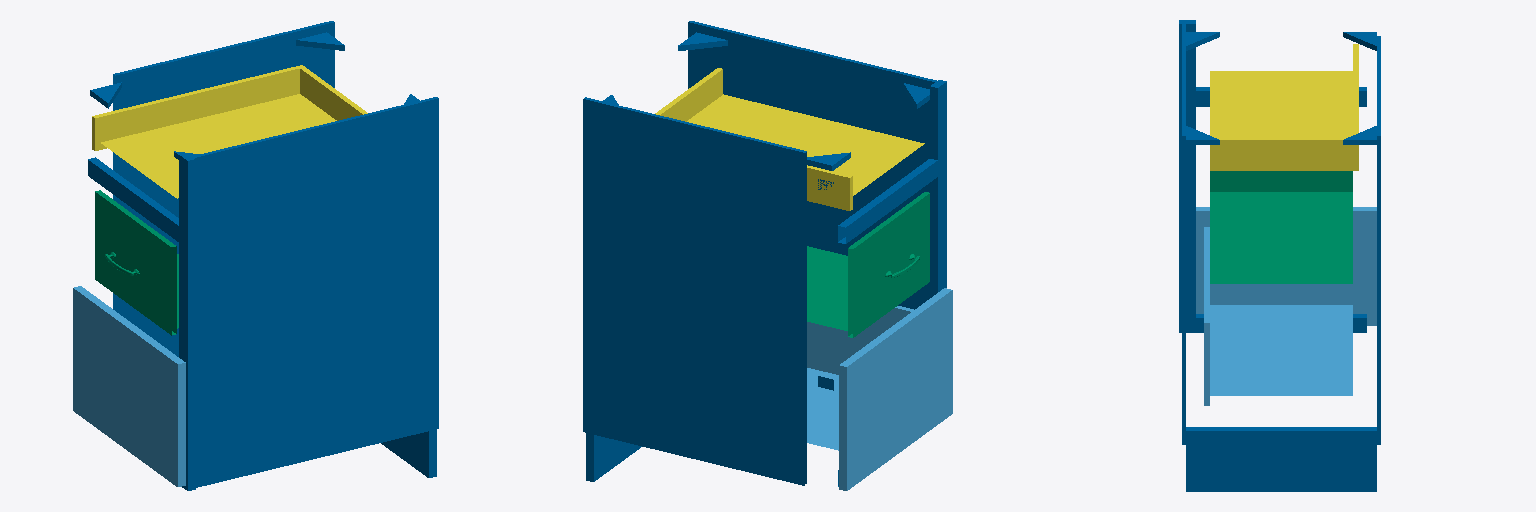
The robot description file, URDF, robot "partnet_4fd61ff0aa949a4486d53ab0fe94e911":
<?xml version="1.0" ?>
<robot name="partnet_4fd61ff0aa949a4486d53ab0fe94e911">
	<link name="base"/>
	<link name="link_0">
		<visual name="drawer_front-23">
			<origin xyz="0 0 0"/>
			<geometry>
				<mesh filename="textured_objs/original-62.obj"/>
			</geometry>
		</visual>
		<visual name="drawer_front-23">
			<origin xyz="0 0 0"/>
			<geometry>
				<mesh filename="textured_objs/original-54.obj"/>
			</geometry>
		</visual>
		<visual name="drawer_side-24">
			<origin xyz="0 0 0"/>
			<geometry>
				<mesh filename="textured_objs/original-58.obj"/>
			</geometry>
		</visual>
		<visual name="drawer_side-25">
			<origin xyz="0 0 0"/>
			<geometry>
				<mesh filename="textured_objs/original-53.obj"/>
			</geometry>
		</visual>
		<visual name="drawer_back-26">
			<origin xyz="0 0 0"/>
			<geometry>
				<mesh filename="textured_objs/original-59.obj"/>
			</geometry>
		</visual>
		<visual name="drawer_bottom-27">
			<origin xyz="0 0 0"/>
			<geometry>
				<mesh filename="textured_objs/original-57.obj"/>
			</geometry>
		</visual>
		<visual name="drawer_bottom-27">
			<origin xyz="0 0 0"/>
			<geometry>
				<mesh filename="textured_objs/original-56.obj"/>
			</geometry>
		</visual>
		<visual name="handle-22">
			<origin xyz="0 0 0"/>
			<geometry>
				<mesh filename="textured_objs/original-63.obj"/>
			</geometry>
		</visual>
		<collision>
			<origin xyz="0 0 0"/>
			<geometry>
				<mesh filename="textured_objs/original-62.obj"/>
			</geometry>
		</collision>
		<collision>
			<origin xyz="0 0 0"/>
			<geometry>
				<mesh filename="textured_objs/original-54.obj"/>
			</geometry>
		</collision>
		<collision>
			<origin xyz="0 0 0"/>
			<geometry>
				<mesh filename="textured_objs/original-58.obj"/>
			</geometry>
		</collision>
		<collision>
			<origin xyz="0 0 0"/>
			<geometry>
				<mesh filename="textured_objs/original-53.obj"/>
			</geometry>
		</collision>
		<collision>
			<origin xyz="0 0 0"/>
			<geometry>
				<mesh filename="textured_objs/original-59.obj"/>
			</geometry>
		</collision>
		<collision>
			<origin xyz="0 0 0"/>
			<geometry>
				<mesh filename="textured_objs/original-57.obj"/>
			</geometry>
		</collision>
		<collision>
			<origin xyz="0 0 0"/>
			<geometry>
				<mesh filename="textured_objs/original-56.obj"/>
			</geometry>
		</collision>
		<collision>
			<origin xyz="0 0 0"/>
			<geometry>
				<mesh filename="textured_objs/original-63.obj"/>
			</geometry>
		</collision>
	</link>
	<joint name="joint_0" type="prismatic">
		<origin xyz="0 0 0"/>
		<axis xyz="0 0 1"/>
		<child link="link_0"/>
		<parent link="link_3"/>
		<limit lower="0" upper="0.8"/>
	</joint>
	<link name="link_1">
		<visual name="drawer_front-16">
			<origin xyz="0 0 0"/>
			<geometry>
				<mesh filename="textured_objs/original-49.obj"/>
			</geometry>
		</visual>
		<visual name="drawer_front-16">
			<origin xyz="0 0 0"/>
			<geometry>
				<mesh filename="textured_objs/original-41.obj"/>
			</geometry>
		</visual>
		<visual name="drawer_side-17">
			<origin xyz="0 0 0"/>
			<geometry>
				<mesh filename="textured_objs/original-45.obj"/>
			</geometry>
		</visual>
		<visual name="drawer_side-18">
			<origin xyz="0 0 0"/>
			<geometry>
				<mesh filename="textured_objs/original-40.obj"/>
			</geometry>
		</visual>
		<visual name="drawer_back-19">
			<origin xyz="0 0 0"/>
			<geometry>
				<mesh filename="textured_objs/original-46.obj"/>
			</geometry>
		</visual>
		<visual name="drawer_bottom-20">
			<origin xyz="0 0 0"/>
			<geometry>
				<mesh filename="textured_objs/original-43.obj"/>
			</geometry>
		</visual>
		<visual name="drawer_bottom-20">
			<origin xyz="0 0 0"/>
			<geometry>
				<mesh filename="textured_objs/original-44.obj"/>
			</geometry>
		</visual>
		<visual name="handle-15">
			<origin xyz="0 0 0"/>
			<geometry>
				<mesh filename="textured_objs/original-50.obj"/>
			</geometry>
		</visual>
		<collision>
			<origin xyz="0 0 0"/>
			<geometry>
				<mesh filename="textured_objs/original-49.obj"/>
			</geometry>
		</collision>
		<collision>
			<origin xyz="0 0 0"/>
			<geometry>
				<mesh filename="textured_objs/original-41.obj"/>
			</geometry>
		</collision>
		<collision>
			<origin xyz="0 0 0"/>
			<geometry>
				<mesh filename="textured_objs/original-45.obj"/>
			</geometry>
		</collision>
		<collision>
			<origin xyz="0 0 0"/>
			<geometry>
				<mesh filename="textured_objs/original-40.obj"/>
			</geometry>
		</collision>
		<collision>
			<origin xyz="0 0 0"/>
			<geometry>
				<mesh filename="textured_objs/original-46.obj"/>
			</geometry>
		</collision>
		<collision>
			<origin xyz="0 0 0"/>
			<geometry>
				<mesh filename="textured_objs/original-43.obj"/>
			</geometry>
		</collision>
		<collision>
			<origin xyz="0 0 0"/>
			<geometry>
				<mesh filename="textured_objs/original-44.obj"/>
			</geometry>
		</collision>
		<collision>
			<origin xyz="0 0 0"/>
			<geometry>
				<mesh filename="textured_objs/original-50.obj"/>
			</geometry>
		</collision>
	</link>
	<joint name="joint_1" type="prismatic">
		<origin xyz="0 0 0"/>
		<axis xyz="0 0 1"/>
		<child link="link_1"/>
		<parent link="link_3"/>
		<limit lower="0" upper="0.8"/>
	</joint>
	<link name="link_2">
		<visual name="drawer_front-9">
			<origin xyz="0 0 0"/>
			<geometry>
				<mesh filename="textured_objs/original-28.obj"/>
			</geometry>
		</visual>
		<visual name="drawer_front-9">
			<origin xyz="0 0 0"/>
			<geometry>
				<mesh filename="textured_objs/original-36.obj"/>
			</geometry>
		</visual>
		<visual name="drawer_side-10">
			<origin xyz="0 0 0"/>
			<geometry>
				<mesh filename="textured_objs/original-32.obj"/>
			</geometry>
		</visual>
		<visual name="drawer_side-11">
			<origin xyz="0 0 0"/>
			<geometry>
				<mesh filename="textured_objs/original-27.obj"/>
			</geometry>
		</visual>
		<visual name="drawer_back-12">
			<origin xyz="0 0 0"/>
			<geometry>
				<mesh filename="textured_objs/original-33.obj"/>
			</geometry>
		</visual>
		<visual name="drawer_bottom-13">
			<origin xyz="0 0 0"/>
			<geometry>
				<mesh filename="textured_objs/original-31.obj"/>
			</geometry>
		</visual>
		<visual name="drawer_bottom-13">
			<origin xyz="0 0 0"/>
			<geometry>
				<mesh filename="textured_objs/original-30.obj"/>
			</geometry>
		</visual>
		<visual name="handle-8">
			<origin xyz="0 0 0"/>
			<geometry>
				<mesh filename="textured_objs/original-37.obj"/>
			</geometry>
		</visual>
		<collision>
			<origin xyz="0 0 0"/>
			<geometry>
				<mesh filename="textured_objs/original-28.obj"/>
			</geometry>
		</collision>
		<collision>
			<origin xyz="0 0 0"/>
			<geometry>
				<mesh filename="textured_objs/original-36.obj"/>
			</geometry>
		</collision>
		<collision>
			<origin xyz="0 0 0"/>
			<geometry>
				<mesh filename="textured_objs/original-32.obj"/>
			</geometry>
		</collision>
		<collision>
			<origin xyz="0 0 0"/>
			<geometry>
				<mesh filename="textured_objs/original-27.obj"/>
			</geometry>
		</collision>
		<collision>
			<origin xyz="0 0 0"/>
			<geometry>
				<mesh filename="textured_objs/original-33.obj"/>
			</geometry>
		</collision>
		<collision>
			<origin xyz="0 0 0"/>
			<geometry>
				<mesh filename="textured_objs/original-31.obj"/>
			</geometry>
		</collision>
		<collision>
			<origin xyz="0 0 0"/>
			<geometry>
				<mesh filename="textured_objs/original-30.obj"/>
			</geometry>
		</collision>
		<collision>
			<origin xyz="0 0 0"/>
			<geometry>
				<mesh filename="textured_objs/original-37.obj"/>
			</geometry>
		</collision>
	</link>
	<joint name="joint_2" type="prismatic">
		<origin xyz="0 0 0"/>
		<axis xyz="0 0 1"/>
		<child link="link_2"/>
		<parent link="link_3"/>
		<limit lower="0" upper="0.8"/>
	</joint>
	<link name="link_3">
		<visual name="frame_vertical_bar-38">
			<origin xyz="0 0 0"/>
			<geometry>
				<mesh filename="textured_objs/original-3.obj"/>
			</geometry>
		</visual>
		<visual name="frame_vertical_bar-39">
			<origin xyz="0 0 0"/>
			<geometry>
				<mesh filename="textured_objs/original-7.obj"/>
			</geometry>
		</visual>
		<visual name="frame_horizontal_bar-40">
			<origin xyz="0 0 0"/>
			<geometry>
				<mesh filename="textured_objs/original-4.obj"/>
			</geometry>
		</visual>
		<visual name="frame_horizontal_bar-41">
			<origin xyz="0 0 0"/>
			<geometry>
				<mesh filename="textured_objs/original-8.obj"/>
			</geometry>
		</visual>
		<visual name="frame_horizontal_bar-42">
			<origin xyz="0 0 0"/>
			<geometry>
				<mesh filename="textured_objs/original-24.obj"/>
			</geometry>
		</visual>
		<visual name="frame_horizontal_bar-43">
			<origin xyz="0 0 0"/>
			<geometry>
				<mesh filename="textured_objs/original-17.obj"/>
			</geometry>
		</visual>
		<visual name="frame_horizontal_bar-44">
			<origin xyz="0 0 0"/>
			<geometry>
				<mesh filename="textured_objs/original-6.obj"/>
			</geometry>
		</visual>
		<visual name="other_leaf-52">
			<origin xyz="0 0 0"/>
			<geometry>
				<mesh filename="textured_objs/original-22.obj"/>
			</geometry>
		</visual>
		<visual name="other_leaf-51">
			<origin xyz="0 0 0"/>
			<geometry>
				<mesh filename="textured_objs/original-21.obj"/>
			</geometry>
		</visual>
		<visual name="other_leaf-50">
			<origin xyz="0 0 0"/>
			<geometry>
				<mesh filename="textured_objs/original-23.obj"/>
			</geometry>
		</visual>
		<visual name="other_leaf-49">
			<origin xyz="0 0 0"/>
			<geometry>
				<mesh filename="textured_objs/original-20.obj"/>
			</geometry>
		</visual>
		<visual name="vertical_side_panel-53">
			<origin xyz="0 0 0"/>
			<geometry>
				<mesh filename="textured_objs/original-15.obj"/>
			</geometry>
		</visual>
		<visual name="vertical_side_panel-53">
			<origin xyz="0 0 0"/>
			<geometry>
				<mesh filename="textured_objs/original-14.obj"/>
			</geometry>
		</visual>
		<visual name="vertical_side_panel-54">
			<origin xyz="0 0 0"/>
			<geometry>
				<mesh filename="textured_objs/original-10.obj"/>
			</geometry>
		</visual>
		<visual name="vertical_side_panel-54">
			<origin xyz="0 0 0"/>
			<geometry>
				<mesh filename="textured_objs/original-11.obj"/>
			</geometry>
		</visual>
		<visual name="back_panel-55">
			<origin xyz="0 0 0"/>
			<geometry>
				<mesh filename="textured_objs/original-5.obj"/>
			</geometry>
		</visual>
		<visual name="bottom_panel-56">
			<origin xyz="0 0 0"/>
			<geometry>
				<mesh filename="textured_objs/original-2.obj"/>
			</geometry>
		</visual>
		<visual name="other_leaf-64">
			<origin xyz="0 0 0"/>
			<geometry>
				<mesh filename="textured_objs/original-64.obj"/>
			</geometry>
		</visual>
		<visual name="other_leaf-63">
			<origin xyz="0 0 0"/>
			<geometry>
				<mesh filename="textured_objs/original-60.obj"/>
			</geometry>
		</visual>
		<visual name="other_leaf-62">
			<origin xyz="0 0 0"/>
			<geometry>
				<mesh filename="textured_objs/original-47.obj"/>
			</geometry>
		</visual>
		<visual name="other_leaf-61">
			<origin xyz="0 0 0"/>
			<geometry>
				<mesh filename="textured_objs/original-34.obj"/>
			</geometry>
		</visual>
		<visual name="base_side_panel-29">
			<origin xyz="0 0 0"/>
			<geometry>
				<mesh filename="textured_objs/original-12.obj"/>
			</geometry>
		</visual>
		<visual name="base_side_panel-30">
			<origin xyz="0 0 0"/>
			<geometry>
				<mesh filename="textured_objs/original-18.obj"/>
			</geometry>
		</visual>
		<visual name="base_side_panel-31">
			<origin xyz="0 0 0"/>
			<geometry>
				<mesh filename="textured_objs/original-16.obj"/>
			</geometry>
		</visual>
		<visual name="base_side_panel-32">
			<origin xyz="0 0 0"/>
			<geometry>
				<mesh filename="textured_objs/original-19.obj"/>
			</geometry>
		</visual>
		<collision>
			<origin xyz="0 0 0"/>
			<geometry>
				<mesh filename="textured_objs/original-3.obj"/>
			</geometry>
		</collision>
		<collision>
			<origin xyz="0 0 0"/>
			<geometry>
				<mesh filename="textured_objs/original-7.obj"/>
			</geometry>
		</collision>
		<collision>
			<origin xyz="0 0 0"/>
			<geometry>
				<mesh filename="textured_objs/original-4.obj"/>
			</geometry>
		</collision>
		<collision>
			<origin xyz="0 0 0"/>
			<geometry>
				<mesh filename="textured_objs/original-8.obj"/>
			</geometry>
		</collision>
		<collision>
			<origin xyz="0 0 0"/>
			<geometry>
				<mesh filename="textured_objs/original-24.obj"/>
			</geometry>
		</collision>
		<collision>
			<origin xyz="0 0 0"/>
			<geometry>
				<mesh filename="textured_objs/original-17.obj"/>
			</geometry>
		</collision>
		<collision>
			<origin xyz="0 0 0"/>
			<geometry>
				<mesh filename="textured_objs/original-6.obj"/>
			</geometry>
		</collision>
		<collision>
			<origin xyz="0 0 0"/>
			<geometry>
				<mesh filename="textured_objs/original-22.obj"/>
			</geometry>
		</collision>
		<collision>
			<origin xyz="0 0 0"/>
			<geometry>
				<mesh filename="textured_objs/original-21.obj"/>
			</geometry>
		</collision>
		<collision>
			<origin xyz="0 0 0"/>
			<geometry>
				<mesh filename="textured_objs/original-23.obj"/>
			</geometry>
		</collision>
		<collision>
			<origin xyz="0 0 0"/>
			<geometry>
				<mesh filename="textured_objs/original-20.obj"/>
			</geometry>
		</collision>
		<collision>
			<origin xyz="0 0 0"/>
			<geometry>
				<mesh filename="textured_objs/original-15.obj"/>
			</geometry>
		</collision>
		<collision>
			<origin xyz="0 0 0"/>
			<geometry>
				<mesh filename="textured_objs/original-14.obj"/>
			</geometry>
		</collision>
		<collision>
			<origin xyz="0 0 0"/>
			<geometry>
				<mesh filename="textured_objs/original-10.obj"/>
			</geometry>
		</collision>
		<collision>
			<origin xyz="0 0 0"/>
			<geometry>
				<mesh filename="textured_objs/original-11.obj"/>
			</geometry>
		</collision>
		<collision>
			<origin xyz="0 0 0"/>
			<geometry>
				<mesh filename="textured_objs/original-5.obj"/>
			</geometry>
		</collision>
		<collision>
			<origin xyz="0 0 0"/>
			<geometry>
				<mesh filename="textured_objs/original-2.obj"/>
			</geometry>
		</collision>
		<collision>
			<origin xyz="0 0 0"/>
			<geometry>
				<mesh filename="textured_objs/original-64.obj"/>
			</geometry>
		</collision>
		<collision>
			<origin xyz="0 0 0"/>
			<geometry>
				<mesh filename="textured_objs/original-60.obj"/>
			</geometry>
		</collision>
		<collision>
			<origin xyz="0 0 0"/>
			<geometry>
				<mesh filename="textured_objs/original-47.obj"/>
			</geometry>
		</collision>
		<collision>
			<origin xyz="0 0 0"/>
			<geometry>
				<mesh filename="textured_objs/original-34.obj"/>
			</geometry>
		</collision>
		<collision>
			<origin xyz="0 0 0"/>
			<geometry>
				<mesh filename="textured_objs/original-12.obj"/>
			</geometry>
		</collision>
		<collision>
			<origin xyz="0 0 0"/>
			<geometry>
				<mesh filename="textured_objs/original-18.obj"/>
			</geometry>
		</collision>
		<collision>
			<origin xyz="0 0 0"/>
			<geometry>
				<mesh filename="textured_objs/original-16.obj"/>
			</geometry>
		</collision>
		<collision>
			<origin xyz="0 0 0"/>
			<geometry>
				<mesh filename="textured_objs/original-19.obj"/>
			</geometry>
		</collision>
	</link>
	<joint name="joint_3" type="fixed">
		<origin rpy="1.570796326794897 0 -1.570796326794897" xyz="0 0 0"/>
		<child link="link_3"/>
		<parent link="base"/>
	</joint>
</robot>

--- What the picture shows (computed from the rendered views, not written in the file) ---
Views: 3 orthographic renders of the robot side by side, from view 1: azimuth 30°, elevation 25°; view 2: azimuth 150°, elevation 25°; view 3: azimuth 270°, elevation 25°.
Robot: partnet_4fd61ff0aa949a4486d53ab0fe94e911 — 5 links, 4 joints (3 prismatic, 1 fixed); root link base; default pose: all joints at 0.
Links seen in each view (by area): view 1: link_3, link_2, link_0, link_1; view 2: link_3, link_0, link_2, link_1; view 3: link_3, link_0, link_1, link_2.
Boxes of the visible links, x1=… form: link_3: x1=88, y1=21, x2=438, y2=490; link_2: x1=92, y1=65, x2=367, y2=198; link_0: x1=73, y1=286, x2=185, y2=486; link_1: x1=95, y1=190, x2=178, y2=335; link_3: x1=583, y1=21, x2=946, y2=486; link_0: x1=807, y1=288, x2=952, y2=490; link_2: x1=655, y1=68, x2=924, y2=210; link_1: x1=807, y1=192, x2=929, y2=337; link_3: x1=1179, y1=20, x2=1380, y2=491; link_0: x1=1196, y1=207, x2=1376, y2=405; link_1: x1=1210, y1=171, x2=1352, y2=283; link_2: x1=1210, y1=44, x2=1358, y2=170.
Bounding box of the posed robot: 1.17 × 0.8077 × 1.57 m (x, y, z).
23 mesh visuals loaded from 49 distinct referenced files (23 OBJ); not drawn: 26 (reference not matched to a file when rendering).